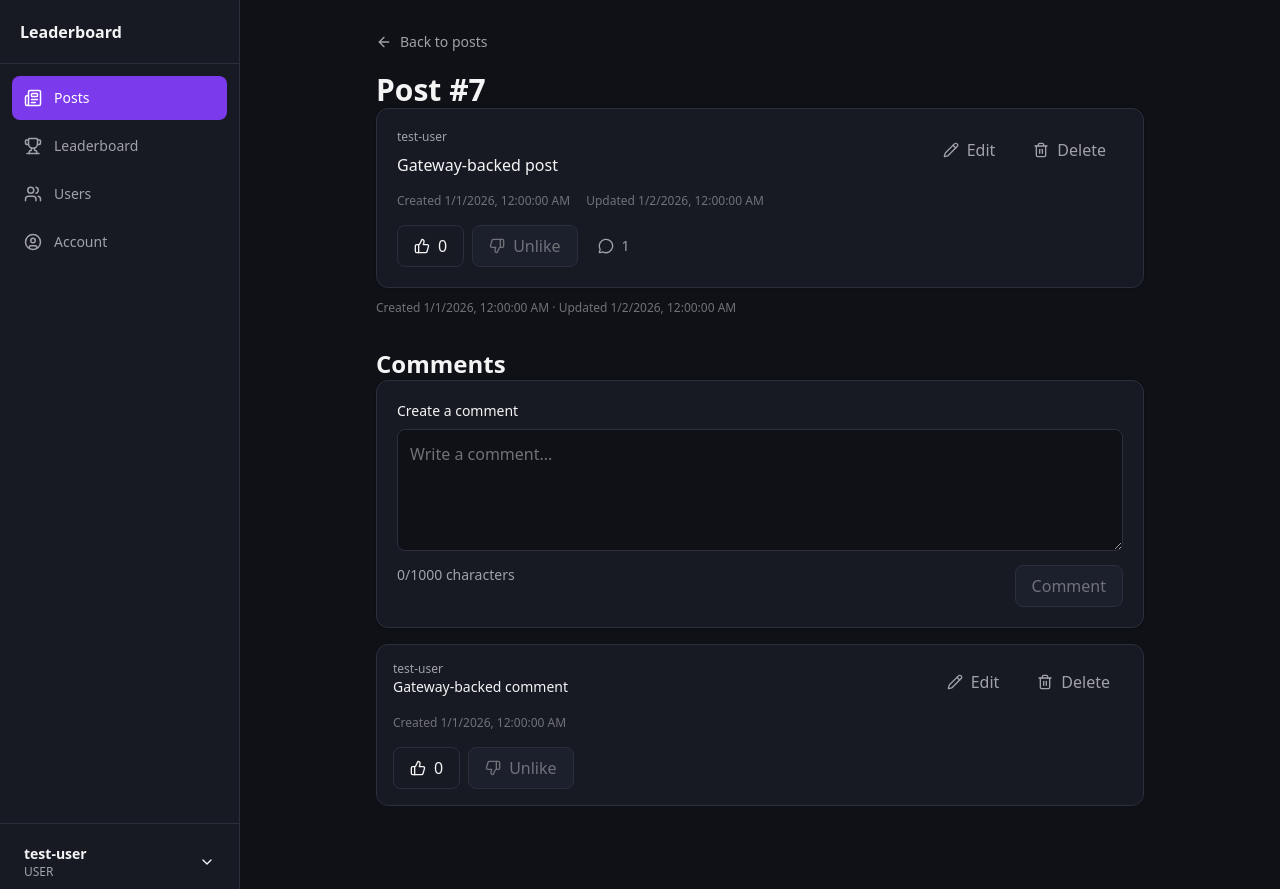
Test: Phase 13 frontend integration › restores a session, rotates the refresh token, and creates a comment and like from the post detail flow
Step 1. Type "A verified comment" into the text box labelled "Create a comment" → (760, 490), box x1=397 y1=429 x2=1123 y2=551
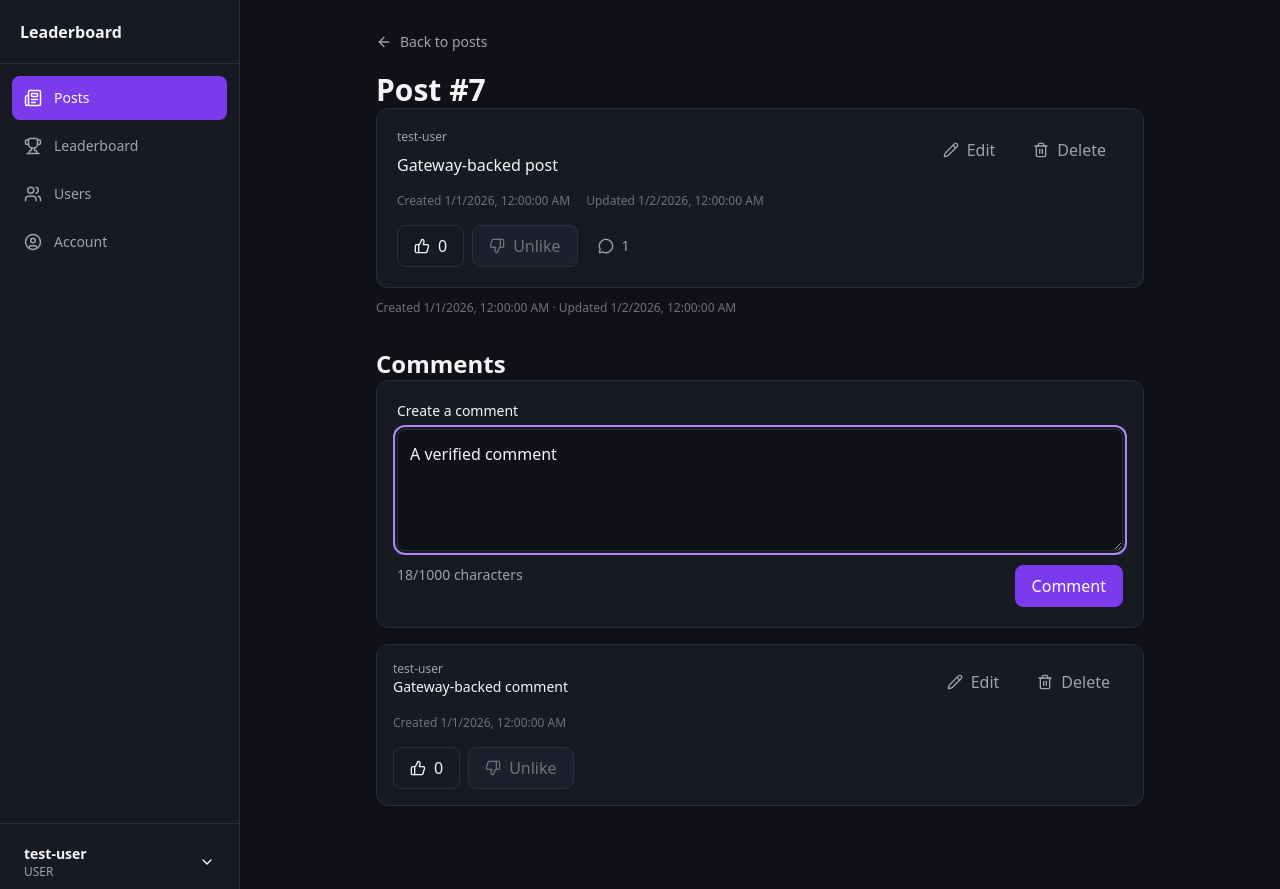
Step 2. Click the button "Comment" → (1069, 586), box x1=1015 y1=565 x2=1123 y2=607
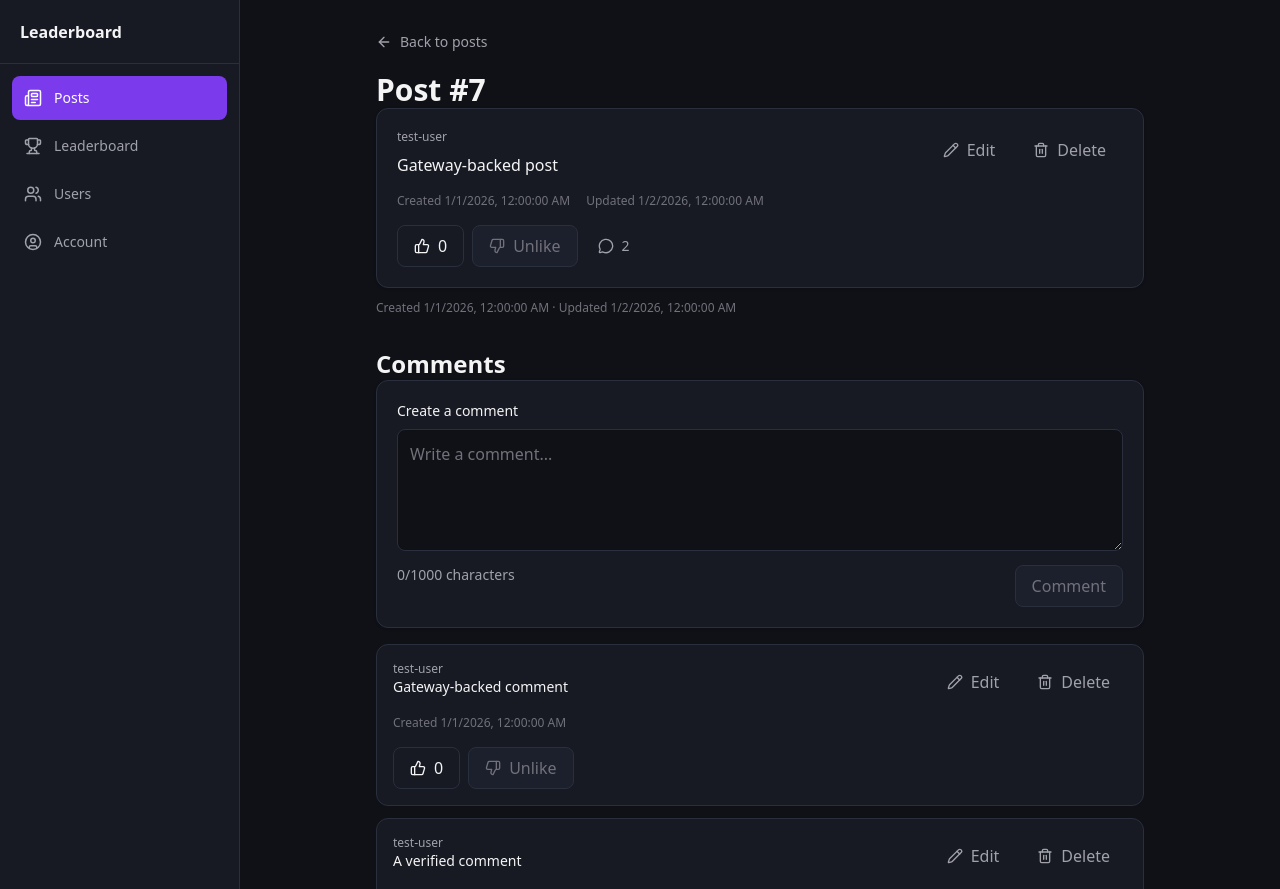
Expected: the text "A verified comment" is shown, x1=393 y1=851 x2=522 y2=870
Step 3. Click the button named "Like post 7" → (431, 246), box x1=397 y1=225 x2=464 y2=267
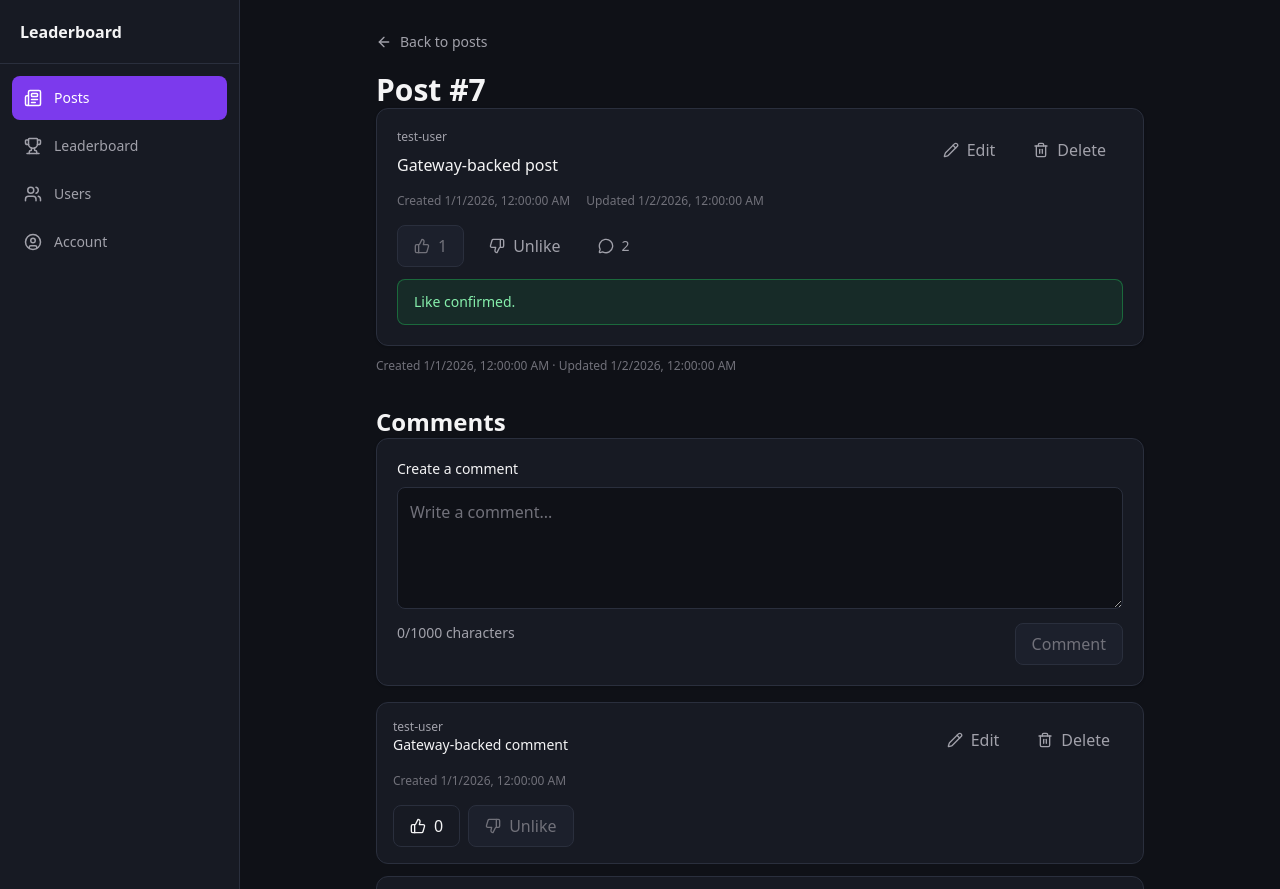
Expected: the text "Like confirmed." is shown, x1=414 y1=292 x2=515 y2=311
